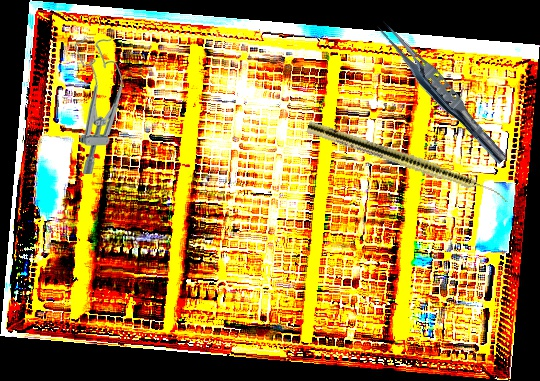Handpiece: (305, 119, 512, 205)
Speculum: (71, 37, 125, 175)
Tissue Forceps: (370, 16, 514, 168)
